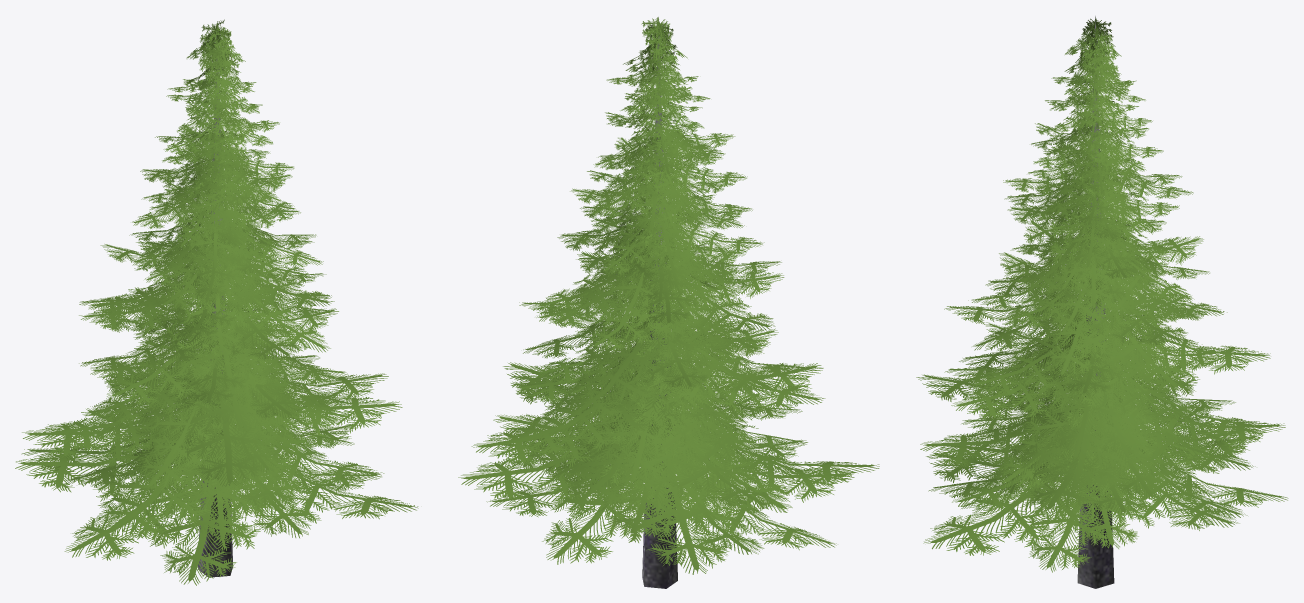
File: Spruce1.fbx
The picture shows the model from 3 angles, left to right: view 1: azimuth 30°, elevation 25°; view 2: azimuth 150°, elevation 25°; view 3: azimuth 270°, elevation 25°; orthographic projection. The views are drawn at different scales.
Visible parts, largest first — view 1: Spruce Tree Needles 1, Spruce Tree Trunk 1; view 2: Spruce Tree Needles 1, Spruce Tree Trunk 1; view 3: Spruce Tree Needles 1, Spruce Tree Trunk 1.
Boxes of the visible parts, x1,y1,x2,y2 form: Spruce Tree Needles 1: [15, 19, 418, 585]; Spruce Tree Trunk 1: [198, 26, 232, 577]; Spruce Tree Needles 1: [458, 17, 879, 574]; Spruce Tree Trunk 1: [642, 36, 677, 588]; Spruce Tree Needles 1: [916, 17, 1288, 572]; Spruce Tree Trunk 1: [1077, 16, 1114, 588].
Size of the model in its own units: 429 by 671 by 408.
